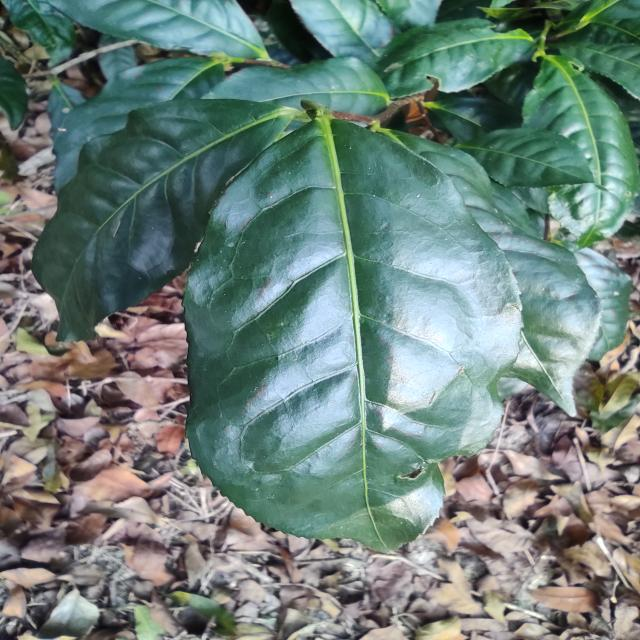Category D(7+ days, Not for Tea): (181, 118, 531, 564)
